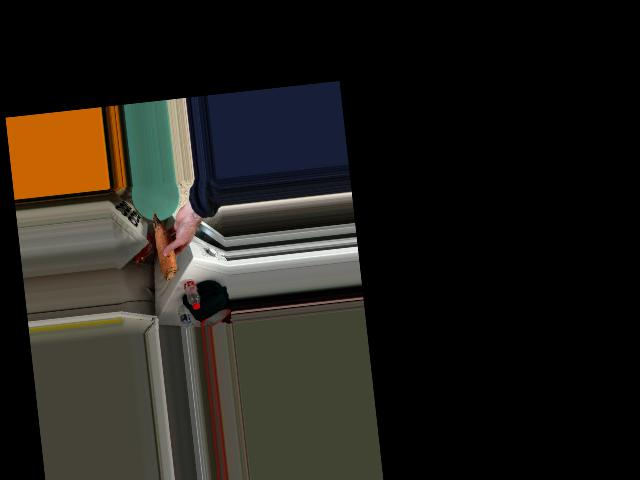sweet_potato: (152, 212, 177, 276)
